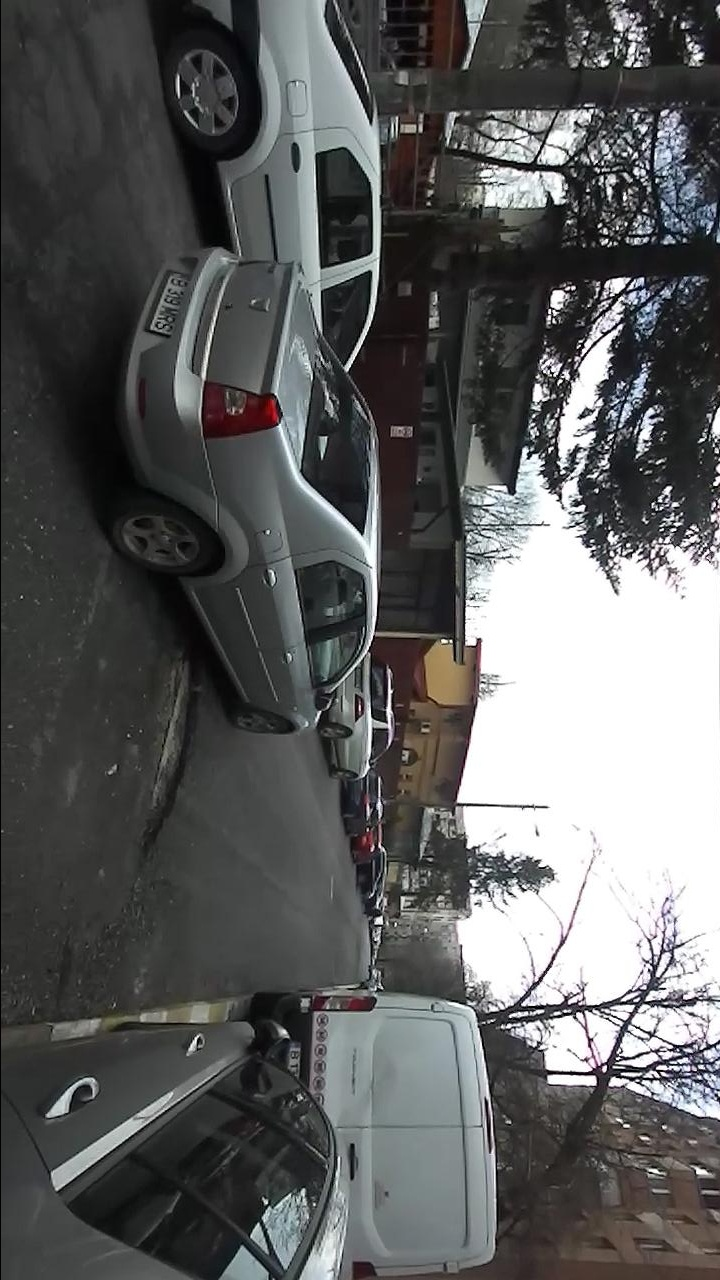pothole: (137, 641, 203, 862)
